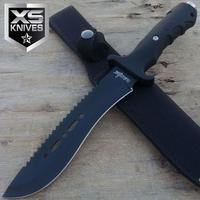knife: (2, 11, 188, 198)
